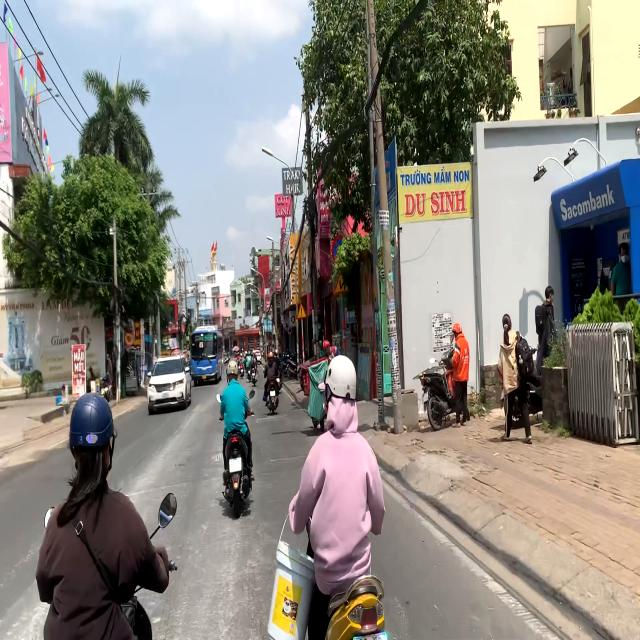W.202a: (333, 270, 350, 294)
W.233: (296, 302, 307, 320)
